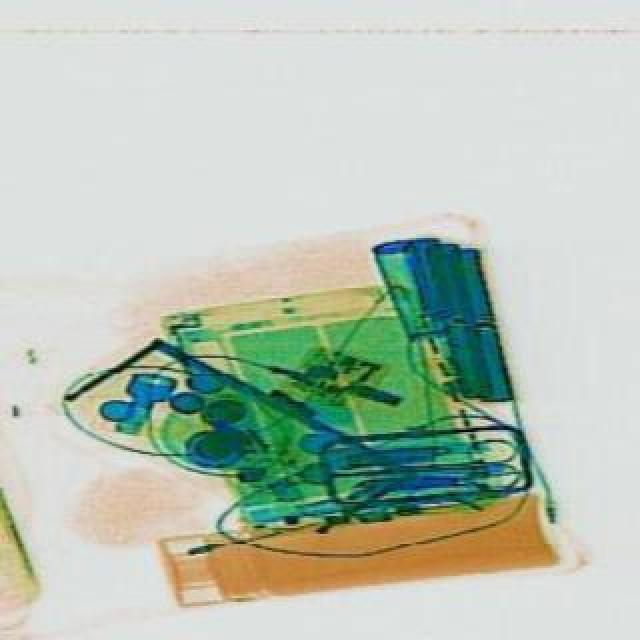pliers: (348, 434, 516, 498)
